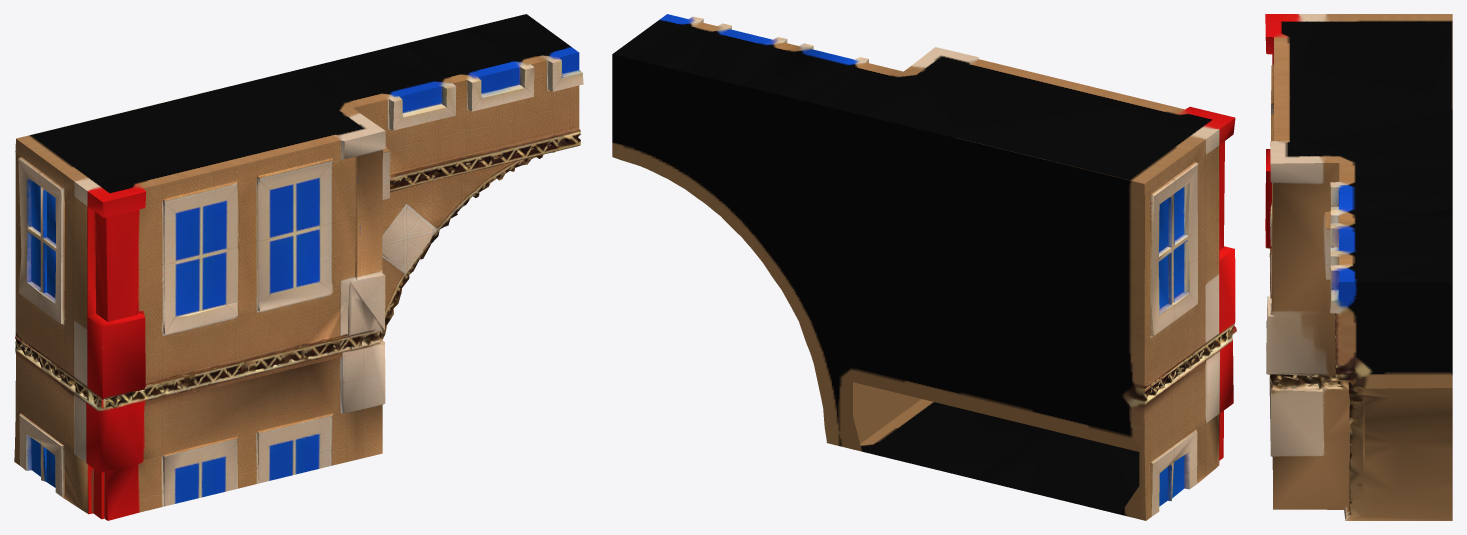
File: 5-upper-walls-front-left.fbx
3 views of the same model, side by side, from view 1: azimuth 30°, elevation 25°; view 2: azimuth 150°, elevation 25°; view 3: azimuth 270°, elevation 25° (orthographic). The views are drawn at different scales.
Parts seen in each view (by area): view 1: upper-walls-front-left; view 2: upper-walls-front-left; view 3: upper-walls-front-left.
Part boxes in pixels (x1,y1,x2,y2): upper-walls-front-left: (14,14,583,520); upper-walls-front-left: (612,14,1236,520); upper-walls-front-left: (1265,14,1452,520).
Size of the model in its own units: 10482 by 6289 by 3077.
Materials: 1 (1 with a texture image).
